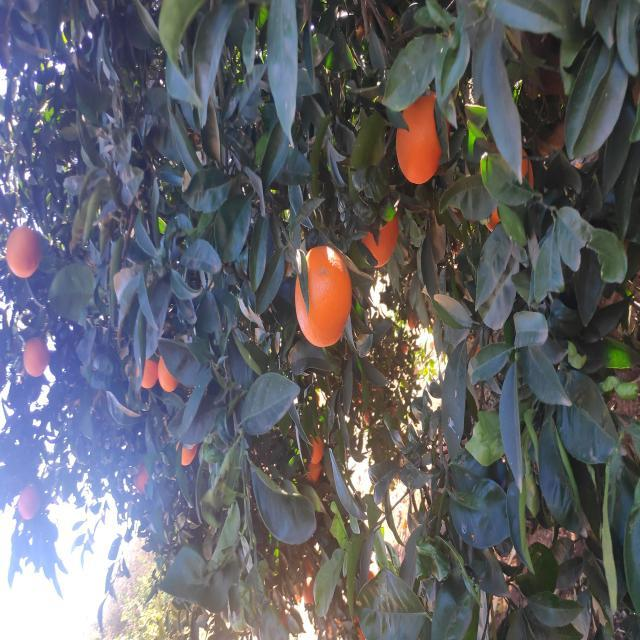Jeruk Sudah Matang: (294, 294, 390, 350), (458, 396, 550, 442), (373, 360, 431, 398), (363, 7, 418, 40), (262, 23, 306, 50), (117, 18, 153, 40), (252, 136, 284, 158), (249, 158, 283, 178), (172, 175, 200, 198), (450, 520, 492, 534), (178, 310, 209, 324), (35, 302, 66, 315), (158, 304, 176, 321), (410, 485, 430, 500)
